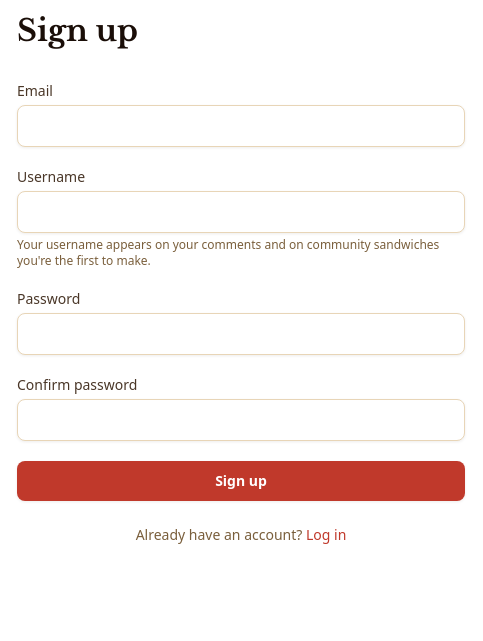
Test: SignupPage › displays an error message on failed signup
Type "test@example.com" into the field labelled "Email" at (241, 126), box [17, 105, 465, 147]
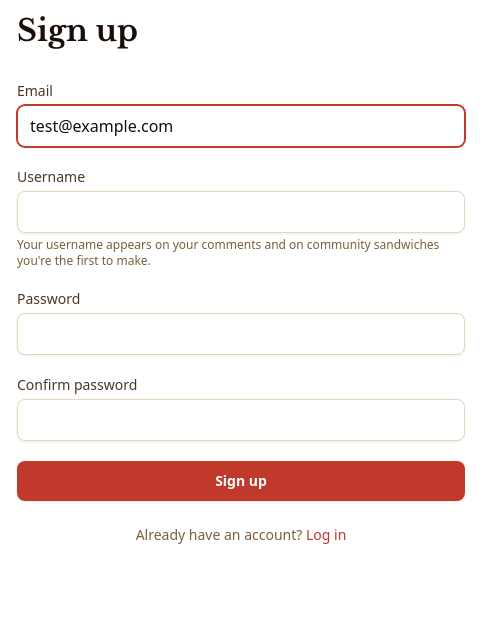
Type "sandwich_fan" into the field labelled "Username" at (241, 212), box [17, 191, 465, 233]
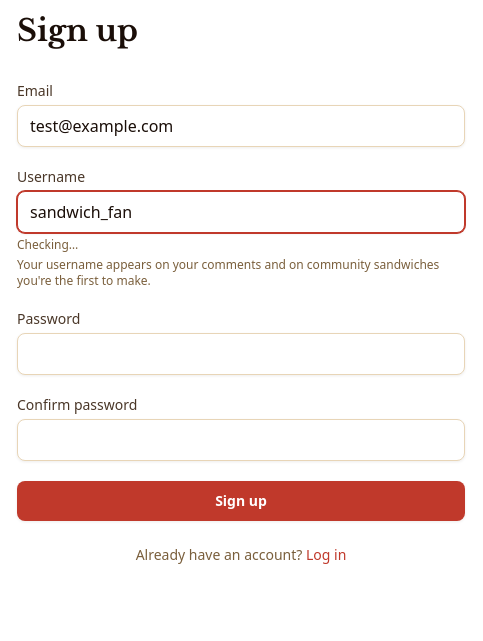
Type "password123" into the password field labelled "Password" at (241, 354), box [17, 333, 465, 375]
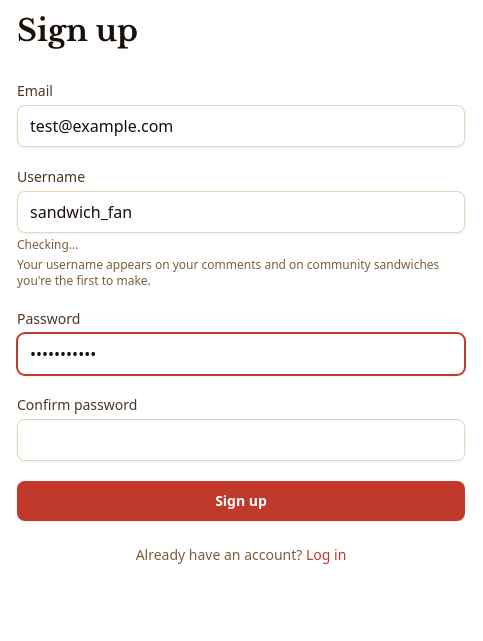
Type "password123" into the password field labelled "Confirm password" at (241, 440), box [17, 419, 465, 461]
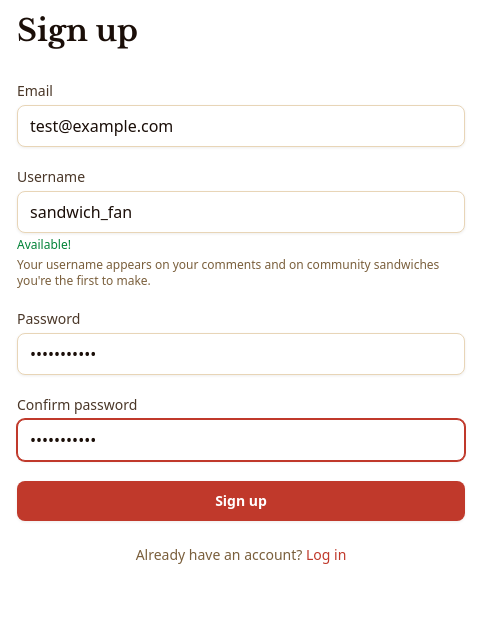
expect the text "Available!" is shown: met, box [17, 236, 71, 253]
Click the button "Sign up" at (241, 501), box [17, 481, 465, 521]
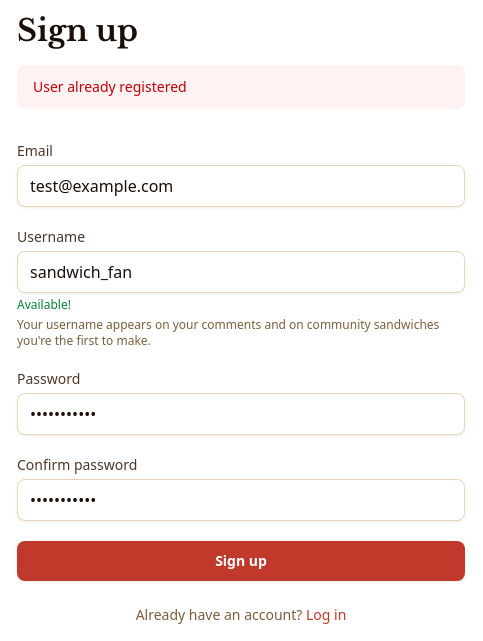
expect the message reads "User already registered": met, box [33, 77, 187, 96]
